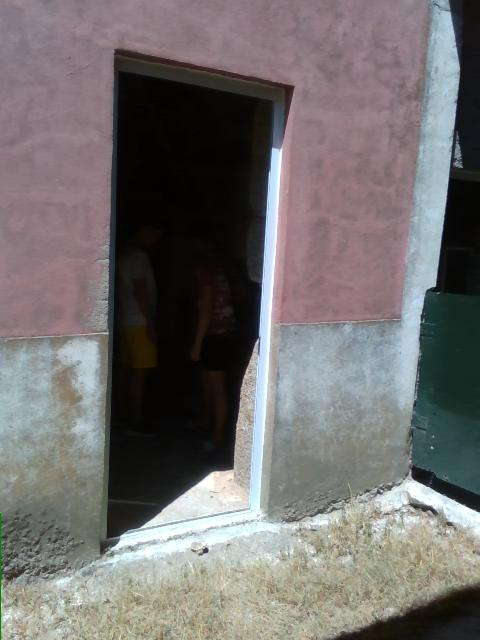open_door: (99, 44, 296, 558)
